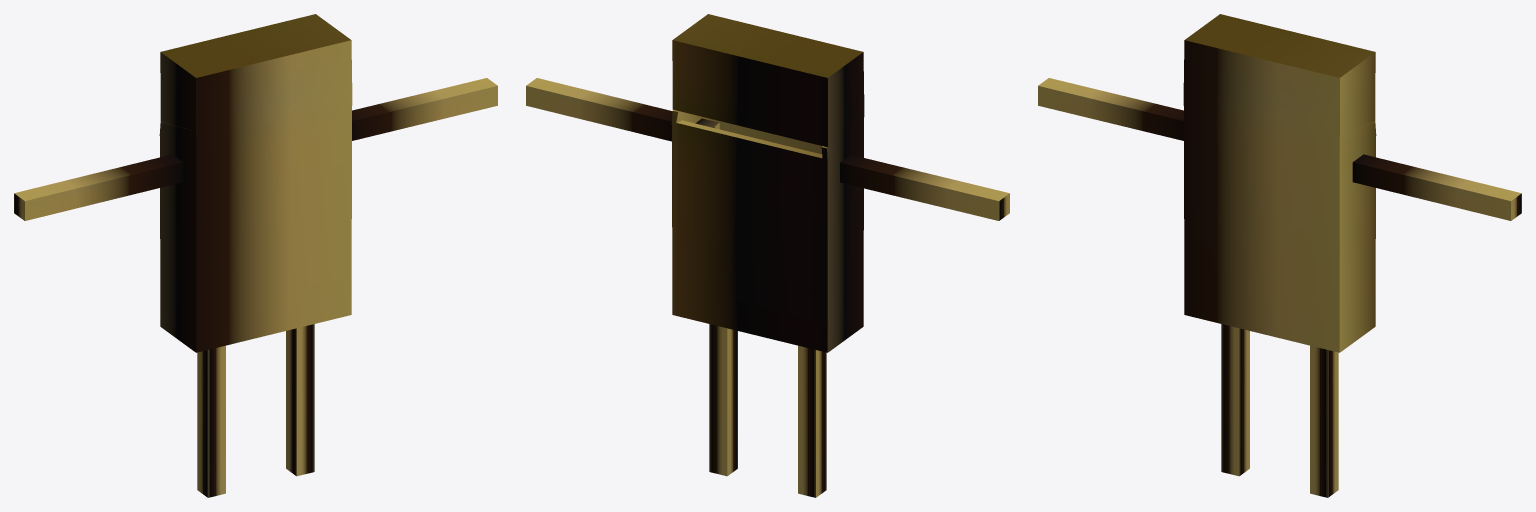
Rendered from icon0.ico.obj.
3 renders of one model, left to right at view 1: azimuth 30°, elevation 25°; view 2: azimuth 150°, elevation 25°; view 3: azimuth 330°, elevation 25°, orthographic.
Bounding box in the file's own units: 4.39 × 3.85 × 0.5933.
